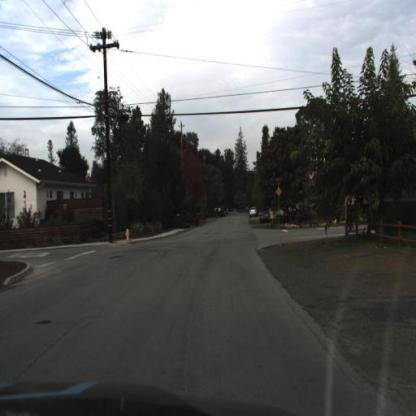car: (257, 202, 273, 228), (247, 204, 259, 221)
